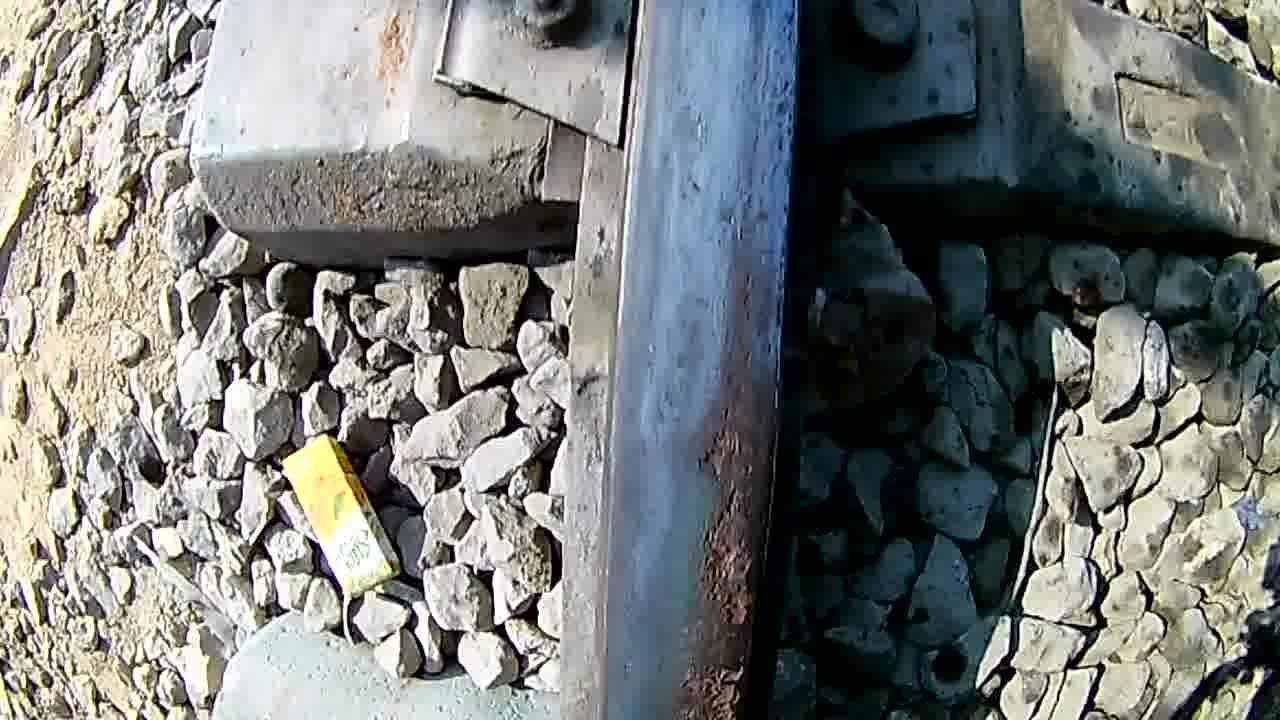crack: (641, 252, 785, 720)
